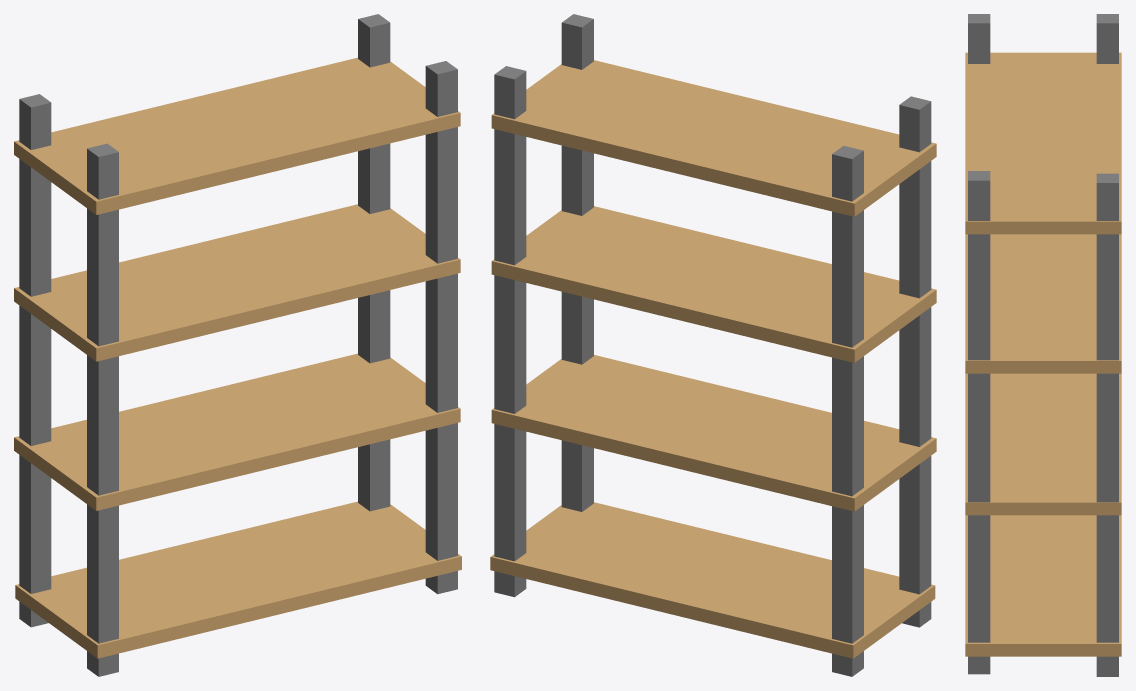
The picture shows the model from 3 angles, left to right: view 1: azimuth 30°, elevation 25°; view 2: azimuth 150°, elevation 25°; view 3: azimuth 270°, elevation 25°; orthographic projection. The views are drawn at different scales.
Visible parts, largest first — view 1: node_MeshObject-1703001536-PolyPaper22; view 2: node_MeshObject-1703001536-PolyPaper22; view 3: node_MeshObject-1703001536-PolyPaper22.
Boxes of the visible parts, x1=… form: node_MeshObject-1703001536-PolyPaper22: x1=14, y1=14, x2=461, y2=676; node_MeshObject-1703001536-PolyPaper22: x1=490, y1=14, x2=936, y2=676; node_MeshObject-1703001536-PolyPaper22: x1=965, y1=14, x2=1121, y2=676.
Size of the model in its own units: 1.44 by 1.96 by 0.56.
